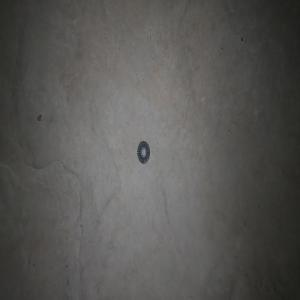Washer: (137, 140, 150, 163)
